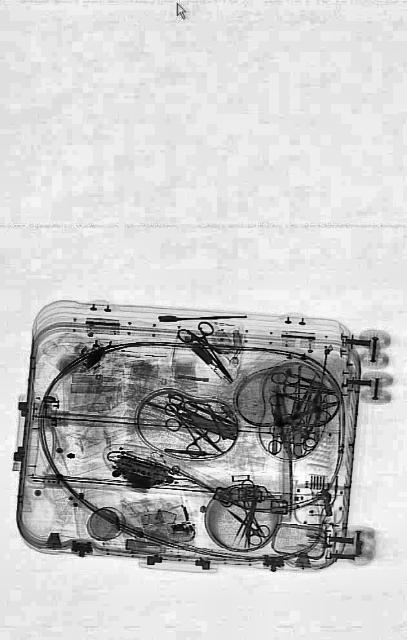Scissors: (175, 303, 239, 397), (156, 381, 222, 469), (224, 495, 272, 555), (268, 370, 334, 410)
